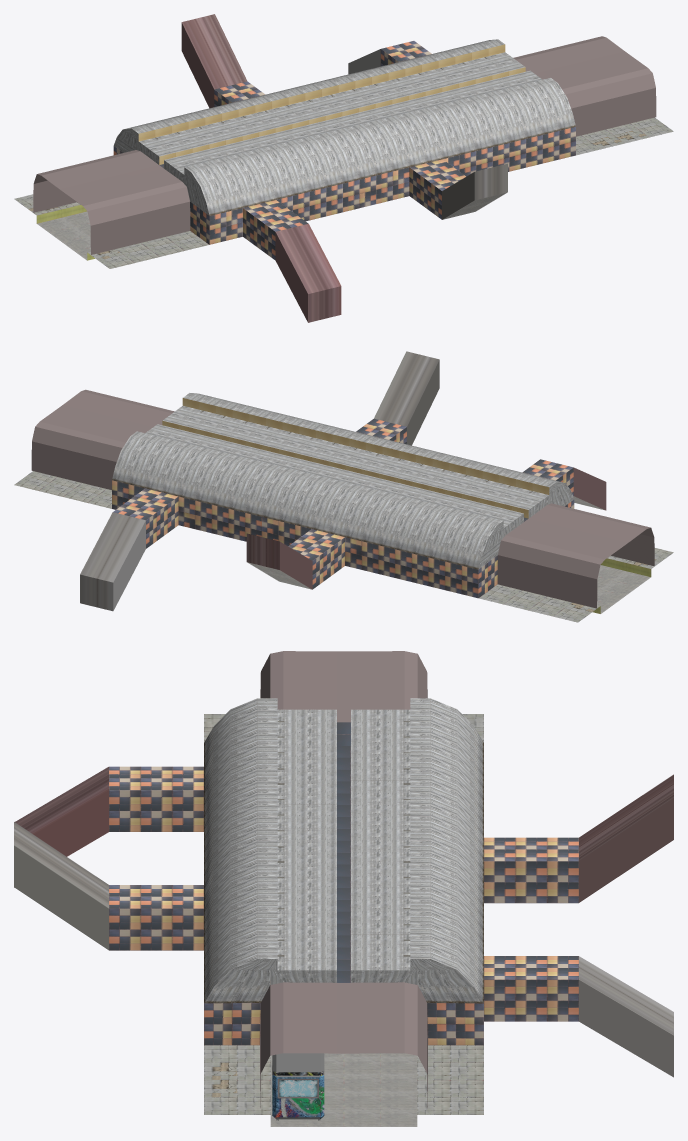
Rendered from EstacionBFinal.fbx.
The picture shows the model from 3 angles, top to bottom: view 1: azimuth 30°, elevation 25°; view 2: azimuth 150°, elevation 25°; view 3: azimuth 270°, elevation 25°; orthographic projection. The views are drawn at different scales.
Visible parts, largest first — view 1: Plane, Plane.022; view 2: Plane, Plane.022; view 3: Plane, Plane.022, Wagon.001.
Part boxes in pixels (left/top/right/bottom): Plane: left=33, top=14, right=656, bottom=322; Plane.022: left=14, top=117, right=673, bottom=268; Plane: left=31, top=351, right=654, bottom=611; Plane.022: left=14, top=471, right=673, bottom=622; Plane: left=14, top=651, right=673, bottom=1107; Plane.022: left=204, top=714, right=483, bottom=1126; Wagon.001: left=272, top=1053, right=324, bottom=1119.
Size of the model in its own units: 7311 by 1366 by 5071.
Materials: 6 (6 with a texture image).
